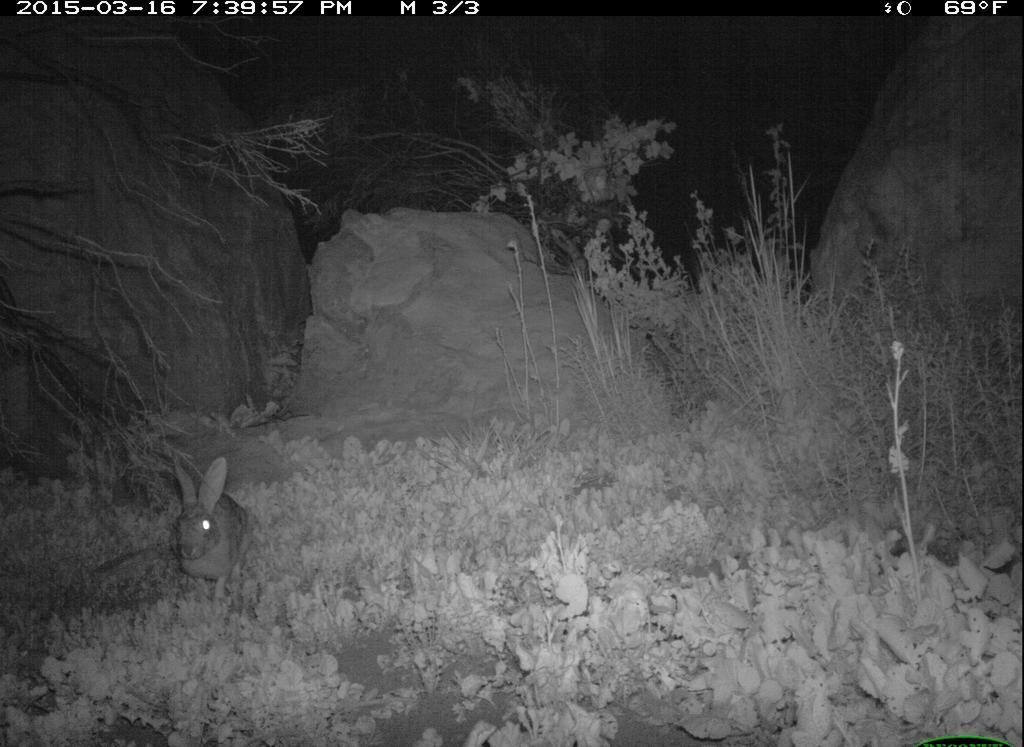rabbit: (164, 449, 260, 600)
